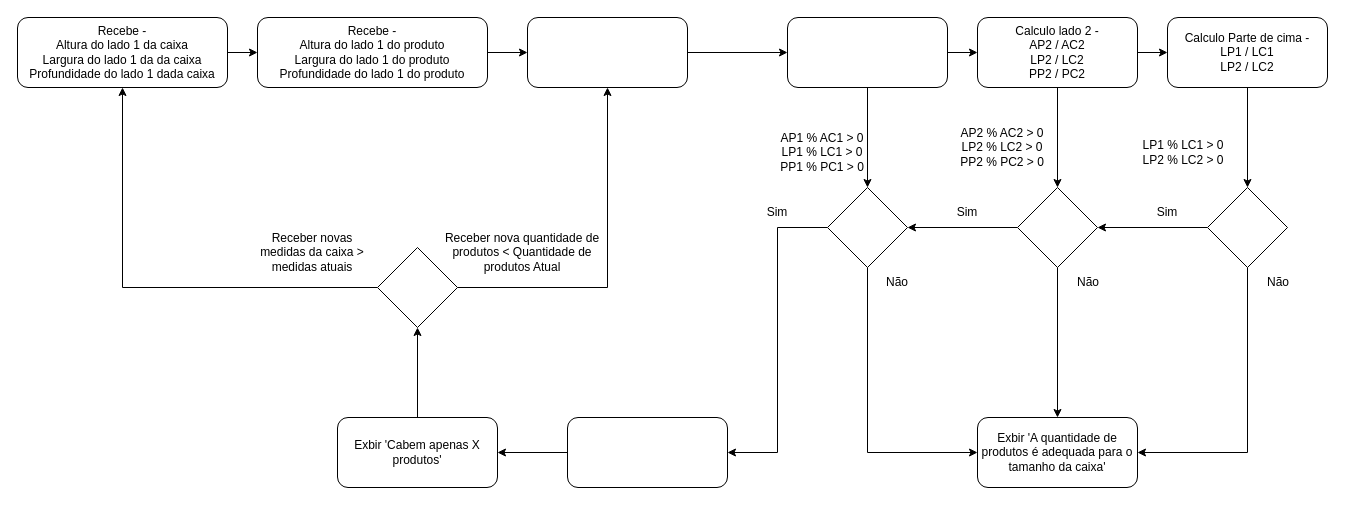
The diagram is 1345 pixels wide and 505 high, and some of its shapes have lost their labels. The shapes that lost their labels are listed below. From the top down, each one's box as (x1, y1, x2, y2) in pixels, then its label:
(526, 16, 688, 88): Recebe - Quantidade de produtos
(786, 16, 948, 88): Calculo lado 1 - AP1 / AC1 LP1 / LC1 PP1 / PC1
(566, 416, 728, 488): Exbir 'Caixa com lado 1 do tamanho X não comporta a quantidade de produtos X'
